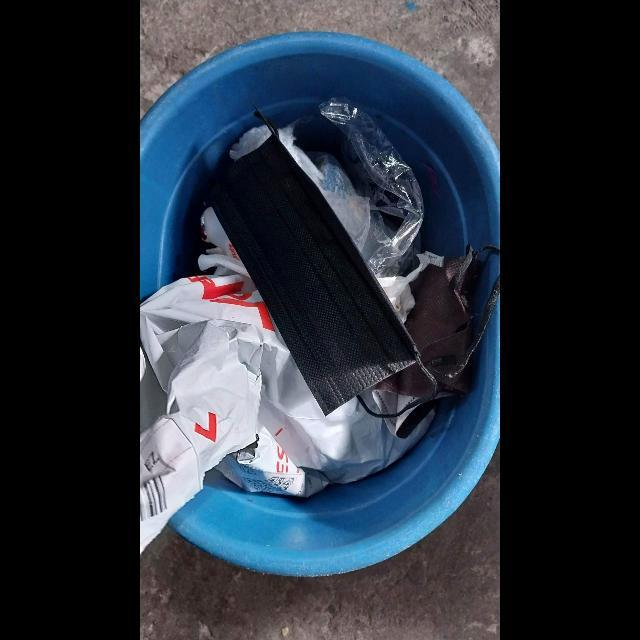plastic_bag: (140, 273, 434, 558)
